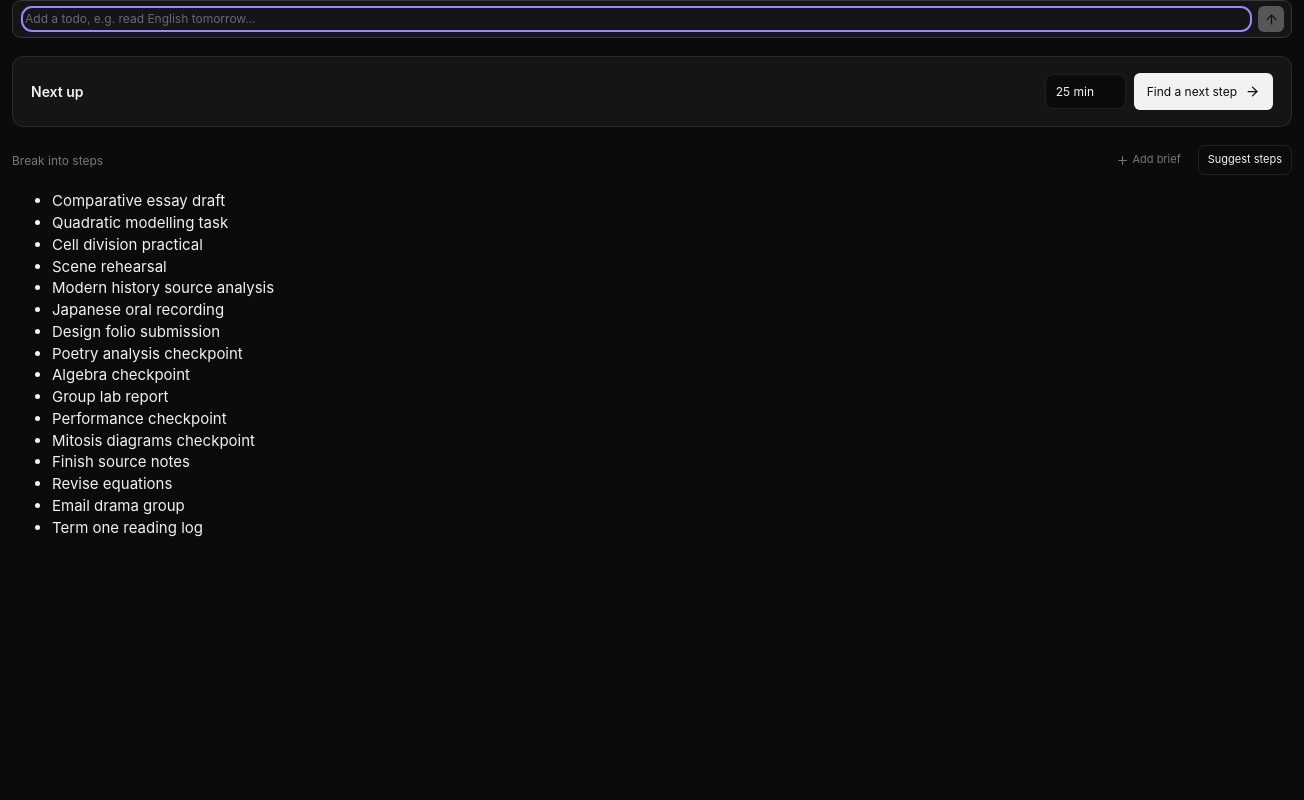
AI demo review flows › adds only selected edited steps and preserves the assignment
Click the button "Suggest steps": (1245, 160) 1198,145 -> 1292,175
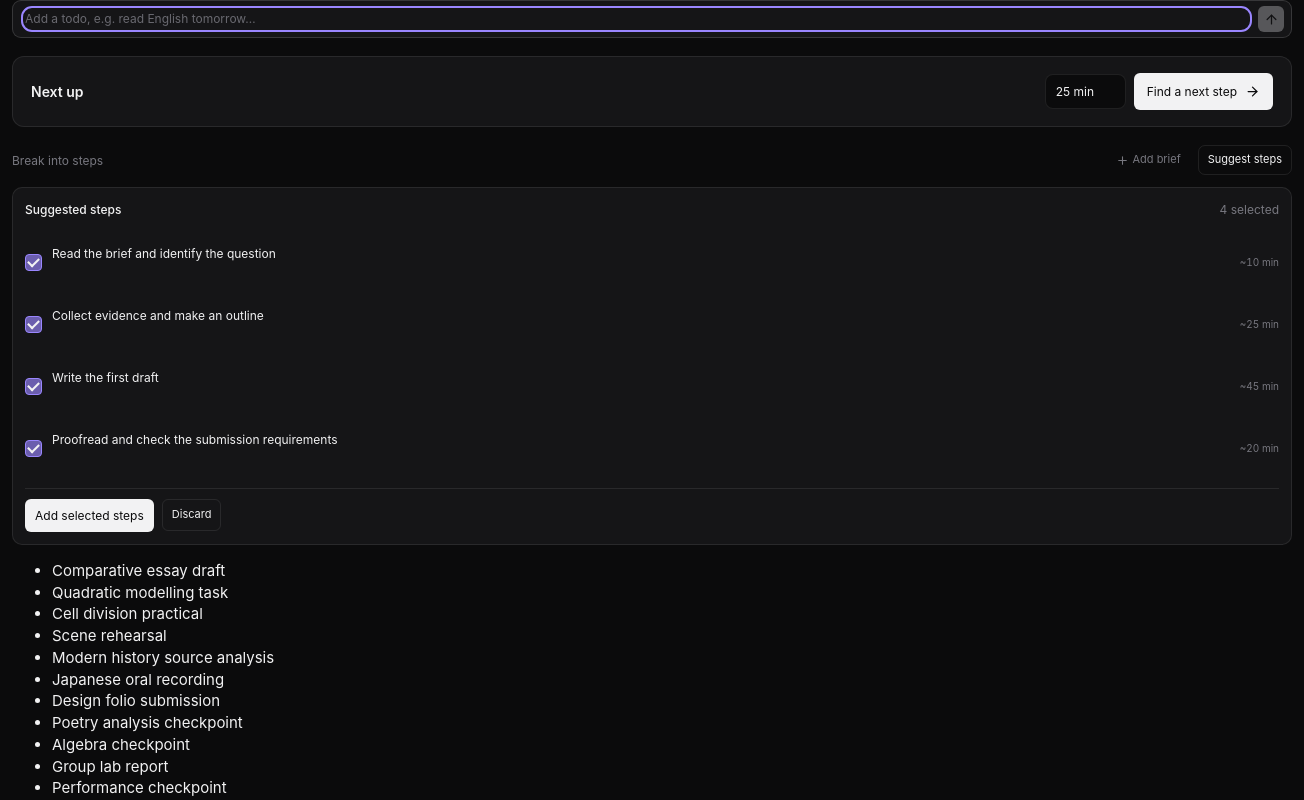
Replace the text in the text box named "Step 1 title" with "Read my teacher's rubric": (638, 262) 47,236 -> 1229,288
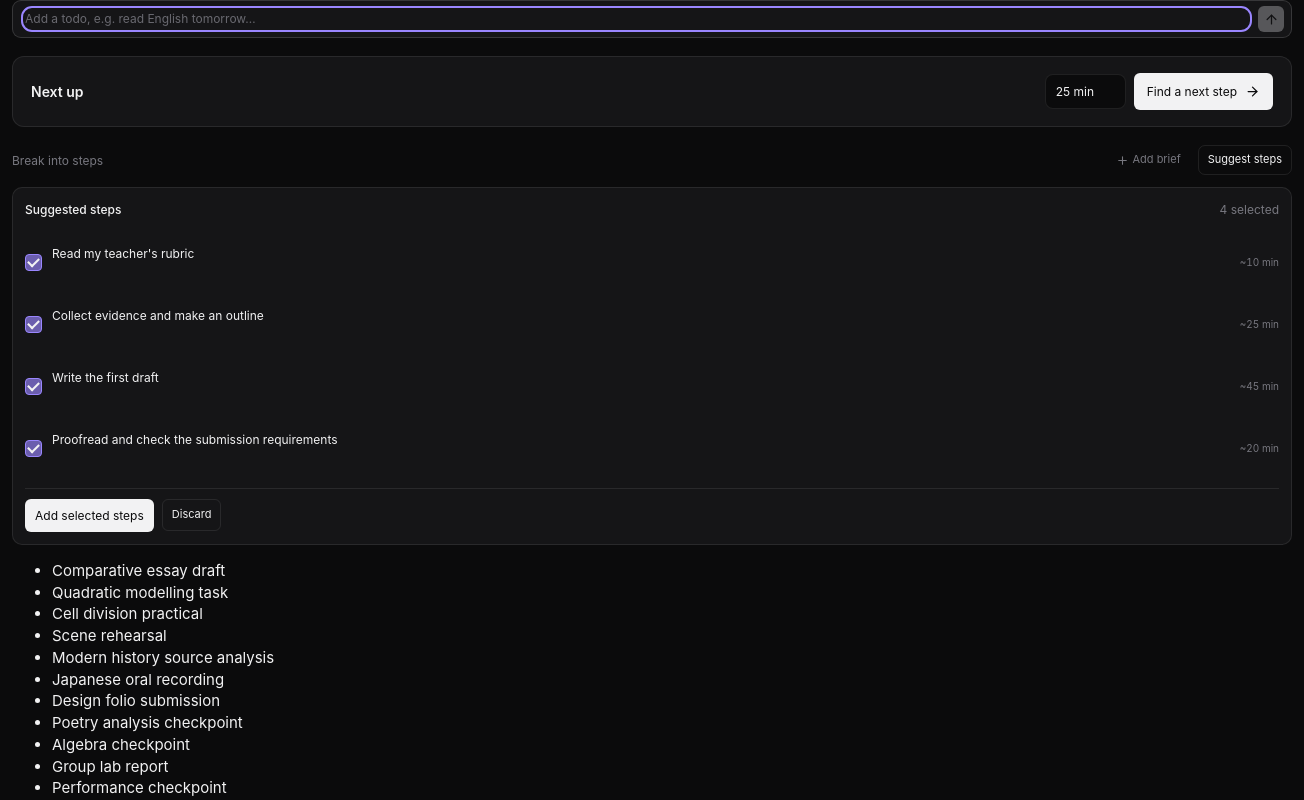
Click the checkbox named "Include step 2": (34, 324) 25,316 -> 42,333
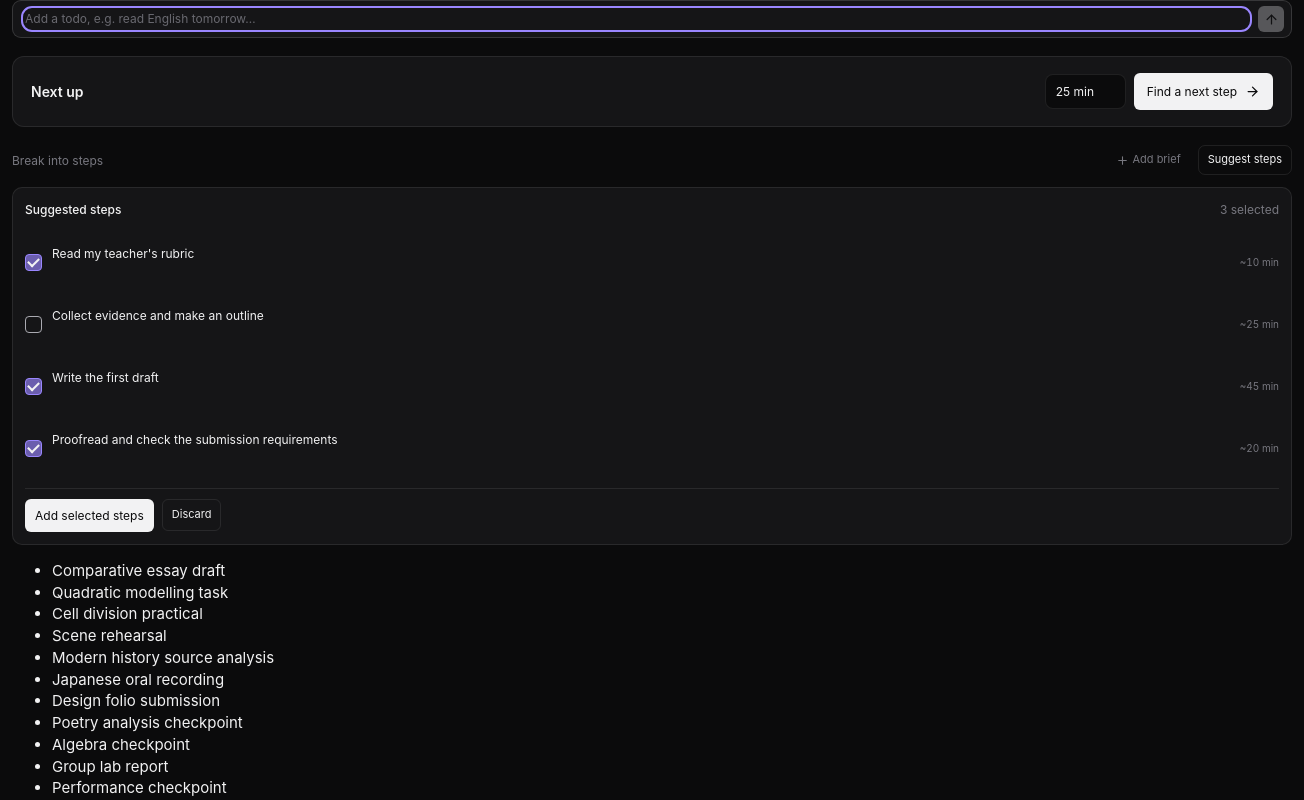
Click the button "Add selected steps": (89, 515) 25,498 -> 154,532
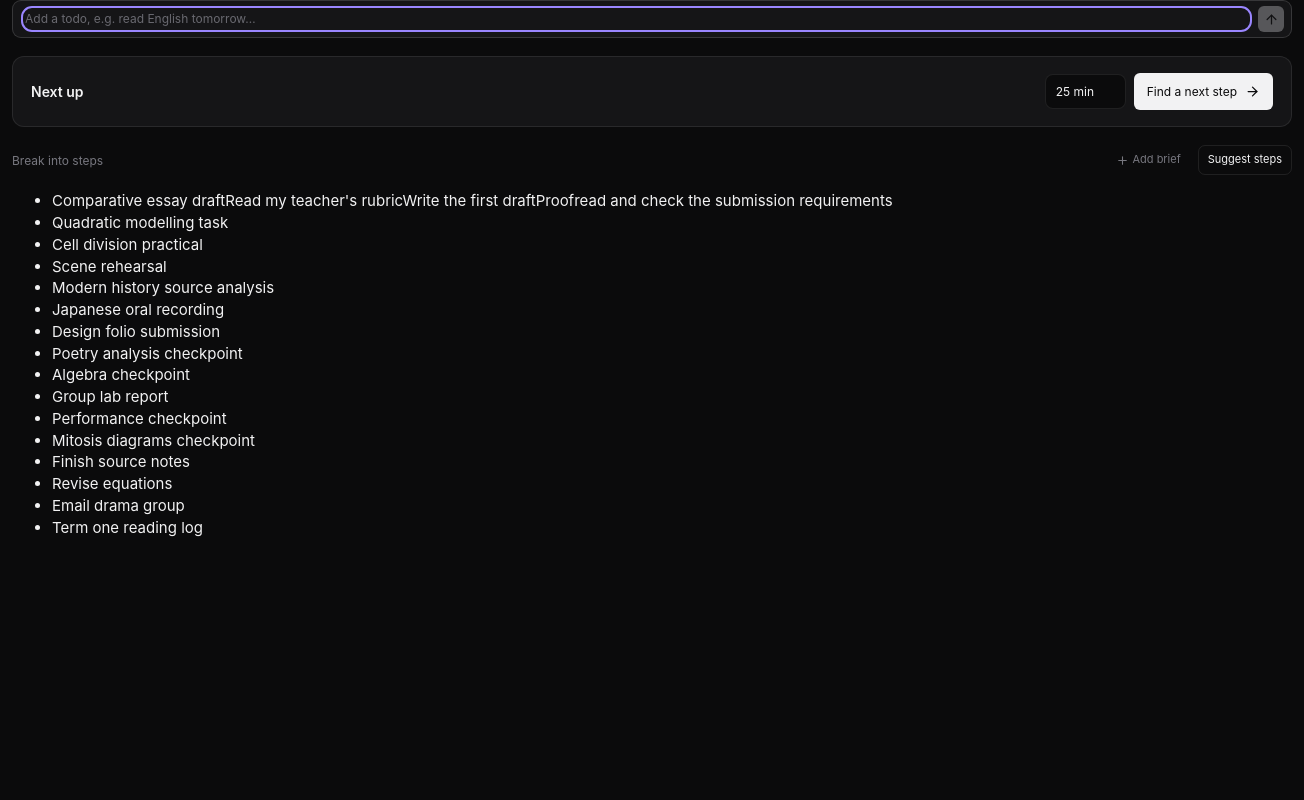
Check: the list named "Saved demo tasks" does not show "Collect evidence and make an outline", box 52,191 -> 893,537
Check: the list named "Saved demo tasks" shows "Read my teacher's rubric", box 225,191 -> 402,210
